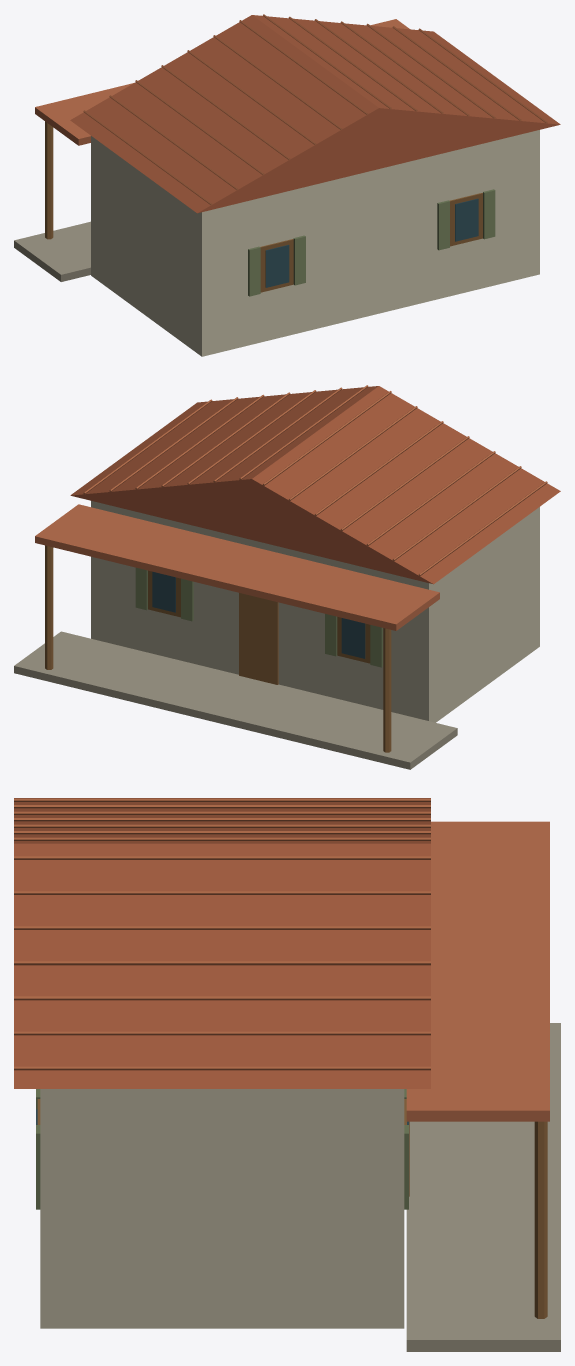
The model's file is villageLonghouse.glb.
3 views of the same model, one above another, from view 1: azimuth 30°, elevation 25°; view 2: azimuth 150°, elevation 25°; view 3: azimuth 270°, elevation 25° (orthographic). The views are drawn at different scales.
Parts seen in each view (by area): view 1: VillageHouseMesh.001; view 2: VillageHouseMesh.001; view 3: VillageHouseMesh.001.
Boxes of the visible parts, x1,y1,x2,y2 form: VillageHouseMesh.001: [14, 14, 560, 356]; VillageHouseMesh.001: [14, 385, 560, 769]; VillageHouseMesh.001: [14, 798, 560, 1351].
Size of the model in its own units: 6.8 by 3.5 by 4.96.
